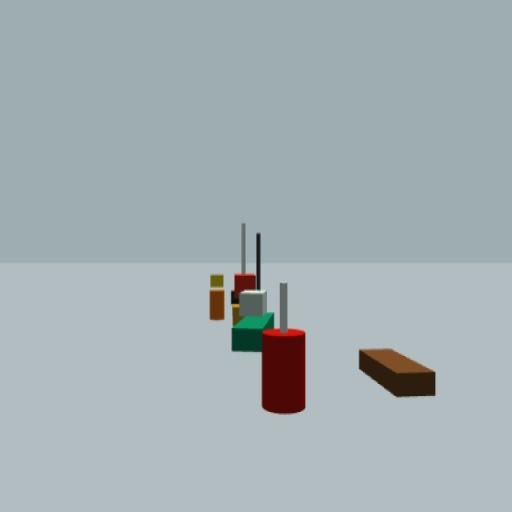buoy: (209, 271, 225, 324)
debris_container: (358, 346, 436, 400)
floating_obstacle: (262, 281, 306, 414)
